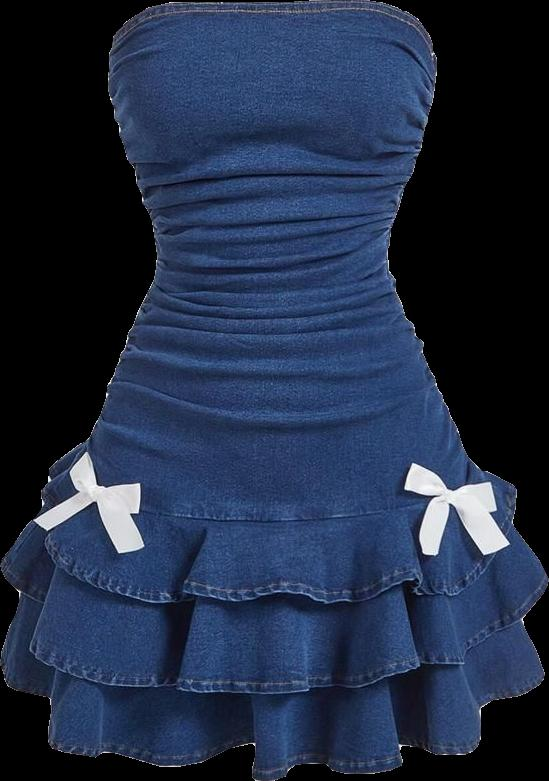Bodice: (108, 0, 436, 301)
Hemline: (0, 562, 548, 699), (0, 644, 548, 780), (35, 462, 523, 608)
Neckline: (108, 0, 436, 50)
Skirt: (1, 285, 547, 780)
Waistline: (80, 441, 473, 524)
